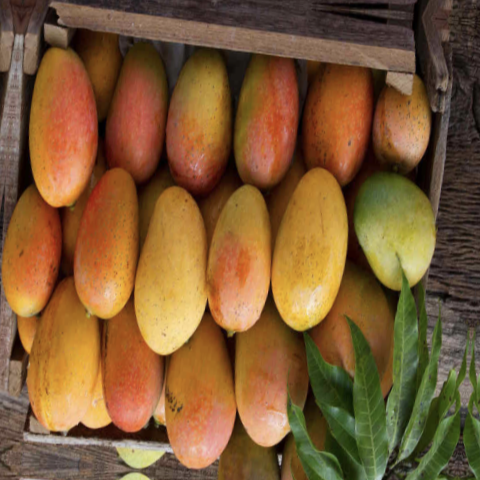mango: (119, 167, 225, 369), (9, 251, 118, 437), (261, 158, 360, 347), (15, 44, 112, 227), (221, 23, 308, 213), (155, 308, 255, 470), (54, 162, 151, 328), (351, 157, 452, 296), (199, 188, 286, 349), (99, 47, 182, 202), (0, 168, 73, 323)
